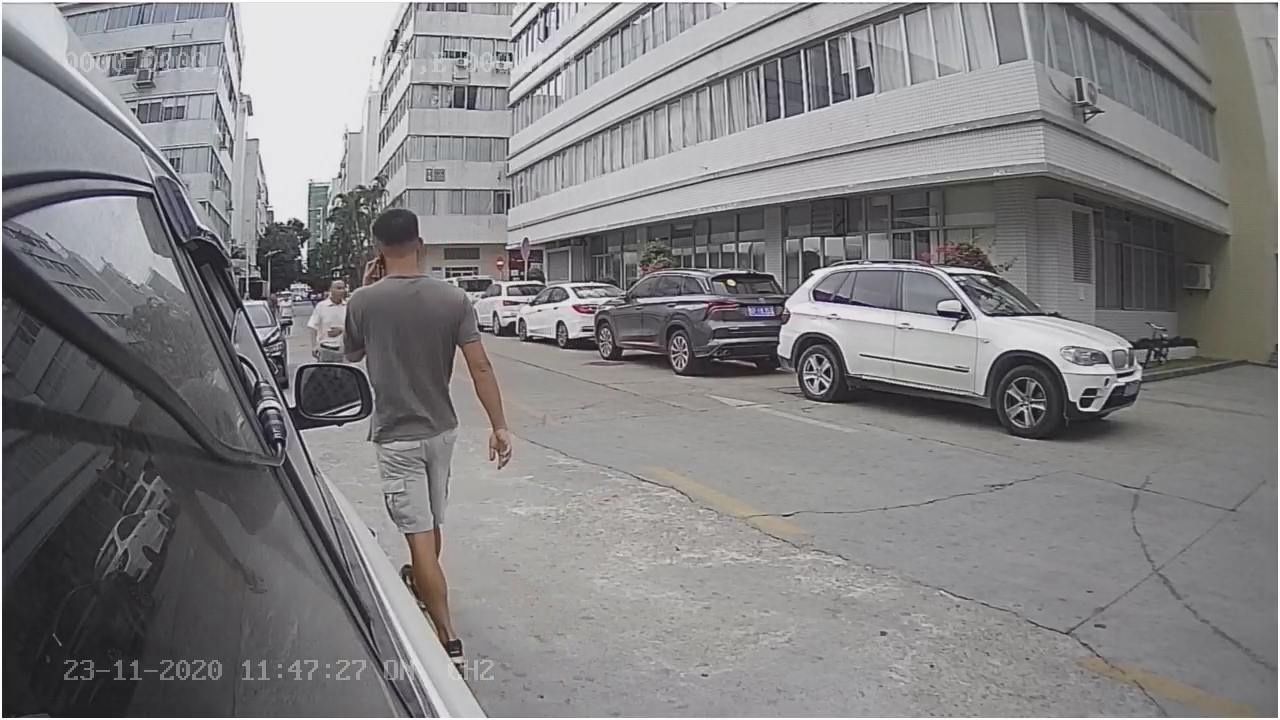person: (345, 202, 494, 362)
